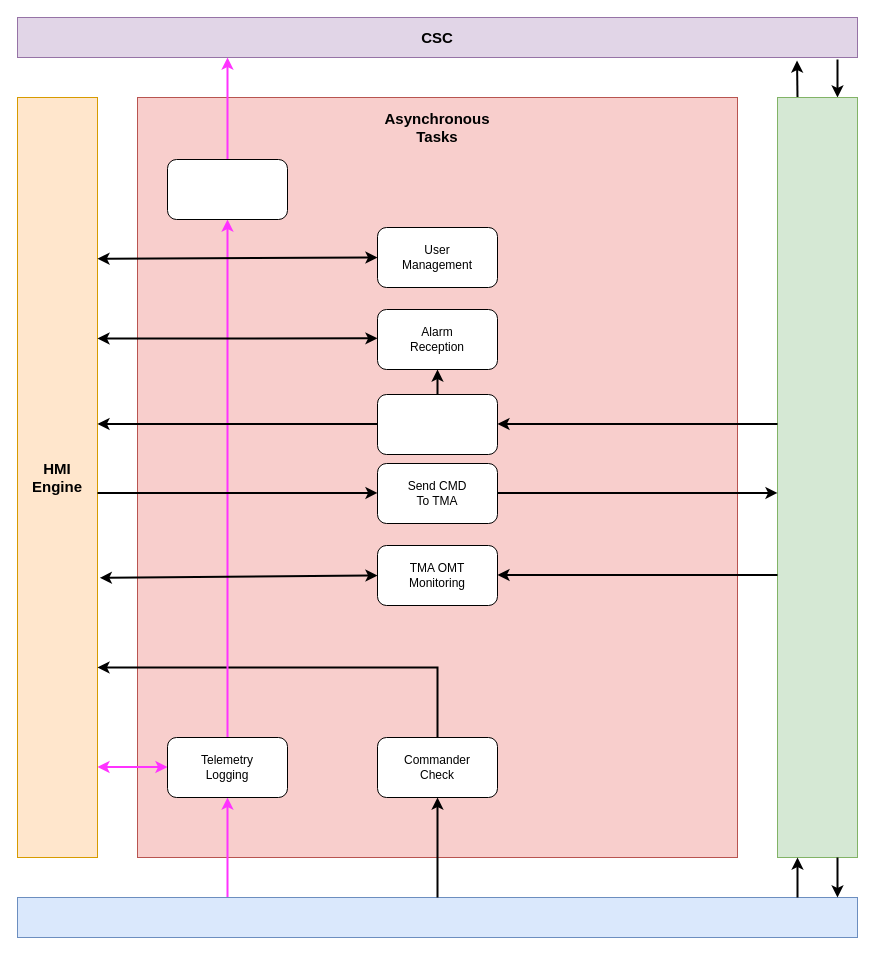
This 875x955 diagram has some shape labels left out. The centre of each missing label's shape, as x and y in pixels:
"Get Event From TMA" goes at pixel 437 424.
"PXI" goes at pixel 437 917.
"TCP Telemetry" goes at pixel 227 189.
"TMA OMT (C++)" goes at pixel 817 477.
